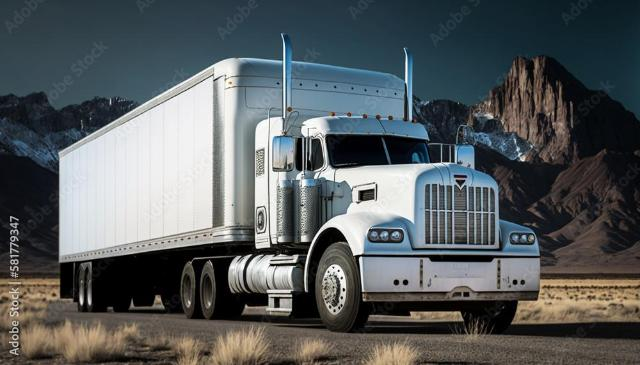truck: (33, 60, 557, 321)
